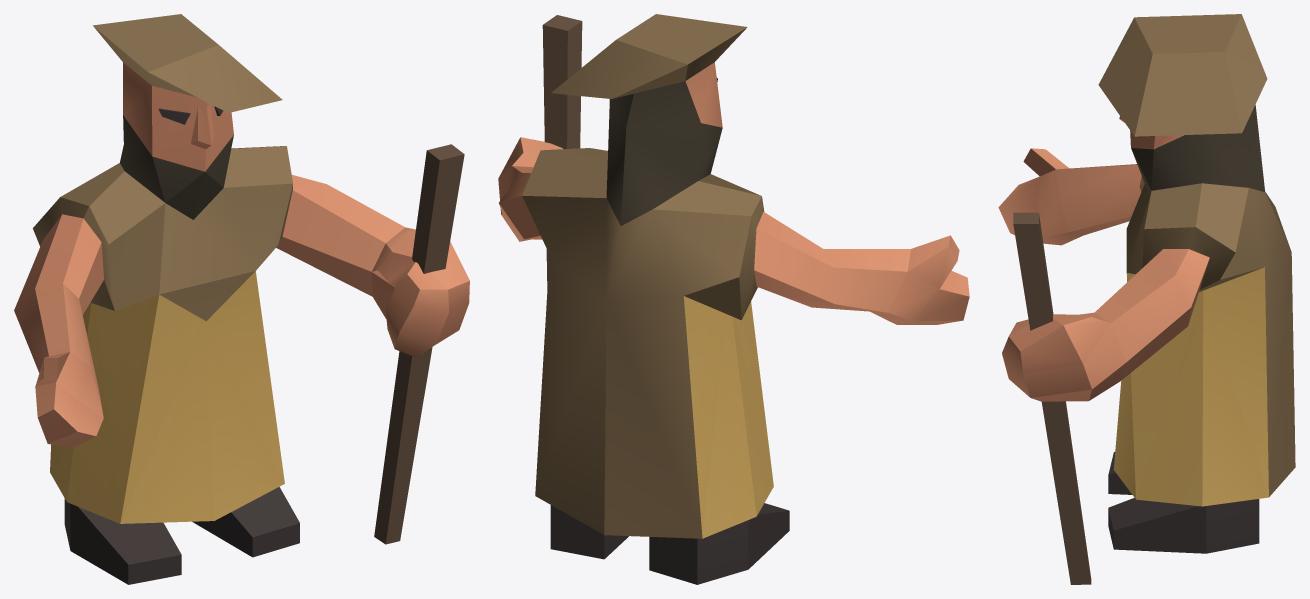
File: marchand.glb
3 views of the same model, side by side, from view 1: azimuth 30°, elevation 25°; view 2: azimuth 150°, elevation 25°; view 3: azimuth 270°, elevation 25° (orthographic). The views are drawn at different scales.
Parts seen in each view (by area): view 1: Object_2; view 2: Object_2; view 3: Object_2.
Part boxes in pixels (box(x1,y1,x2,y2)): Object_2: box(14, 14, 469, 584); Object_2: box(498, 14, 969, 584); Object_2: box(998, 14, 1295, 584).
Size of the model in its own units: 1.49 by 1.63 by 0.9333.
Materials: 1 (1 with a texture image).
